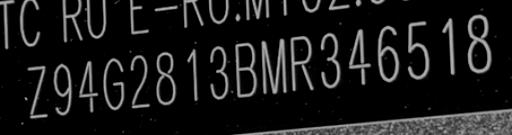letter: (463, 12, 493, 77), (286, 33, 316, 96), (403, 17, 431, 82), (257, 37, 287, 96), (344, 24, 372, 87), (373, 23, 401, 84), (230, 40, 258, 99), (204, 44, 230, 103), (100, 54, 126, 113), (128, 51, 152, 112), (318, 30, 342, 89), (153, 49, 177, 108), (51, 61, 75, 116), (24, 64, 48, 119), (437, 14, 457, 79), (76, 58, 98, 115), (186, 45, 200, 104)
